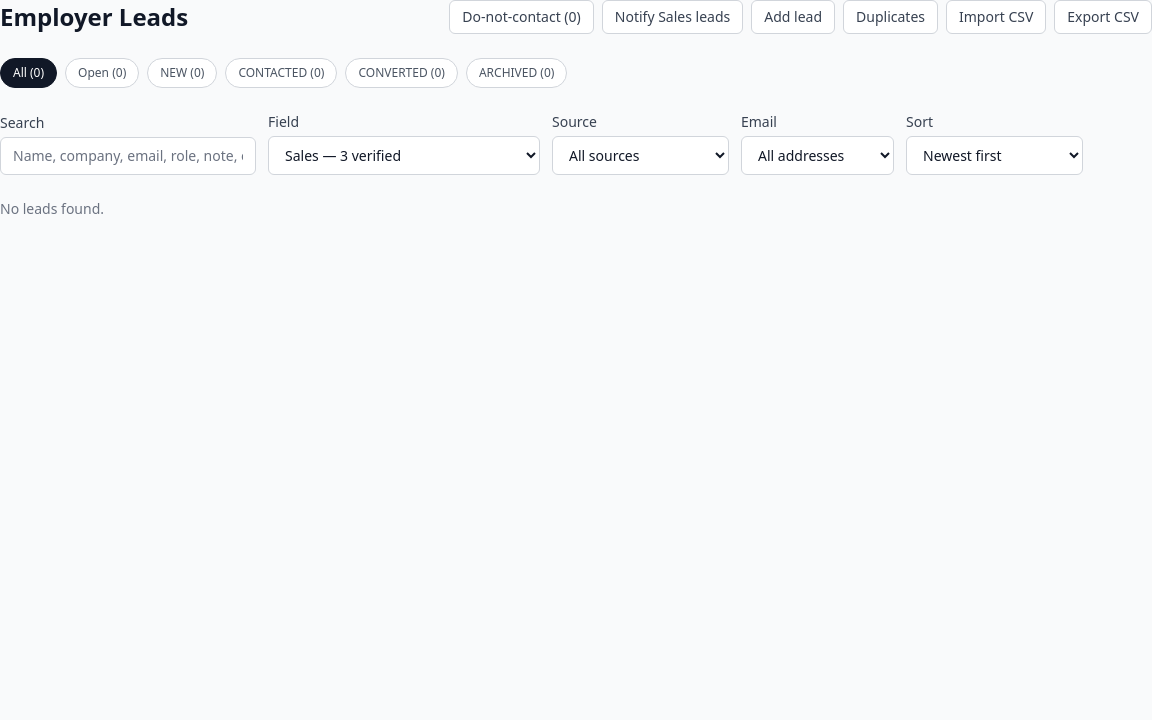
AdminLeads — notify confirmed leads › does a dry run first, asks to confirm, then sends and reports the outcome
The width and height of the screenshot is (1152, 720).
Click the button "Notify Sales leads": click(673, 17) [602,0,743,34]
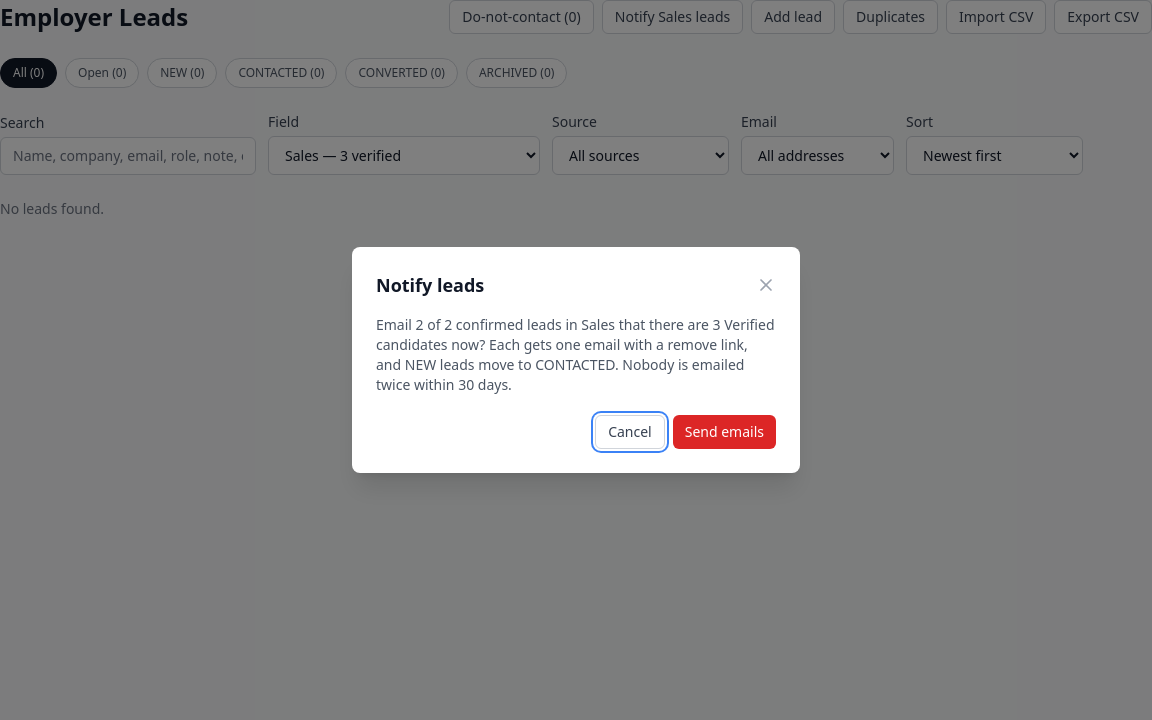
expect the text "Email 2 of 2 confirmed leads in Sales that there are 3 Verified candidates now" is shown: met, box [376,315,774,394]
Click the button "Send emails": click(724, 432) [673,415,776,449]
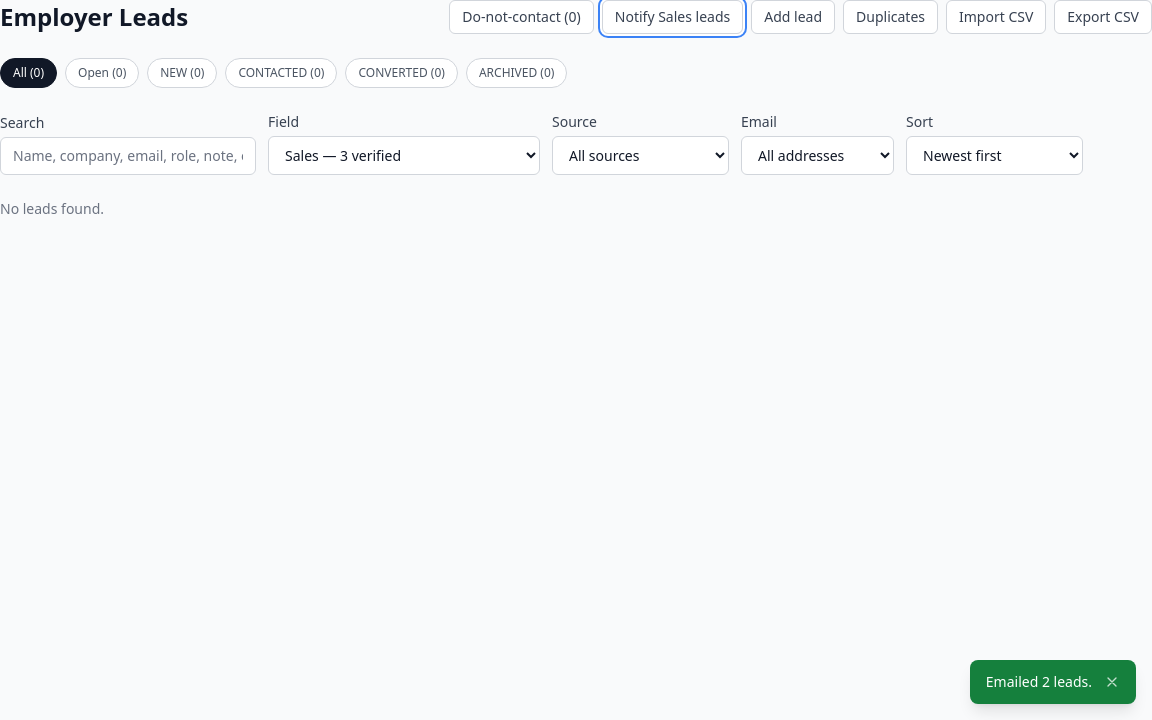
expect the text "Emailed 2 leads." is shown: met, box [986,672,1092,692]
